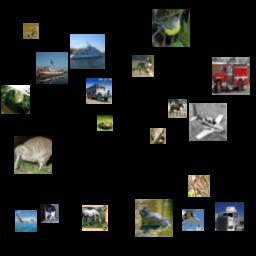airplane: (189, 103, 227, 141), (182, 209, 204, 231), (15, 210, 37, 232), (150, 128, 166, 144)
bird: (14, 136, 52, 174), (152, 9, 190, 47), (188, 175, 210, 197)
cat: (1, 85, 30, 114), (40, 204, 59, 223)
dog: (132, 55, 154, 77)
frog: (135, 199, 173, 237), (23, 23, 39, 39), (97, 115, 113, 131)
ship: (70, 34, 105, 69), (36, 52, 68, 84)
truck: (212, 57, 250, 95), (215, 202, 244, 231), (86, 78, 112, 104)
